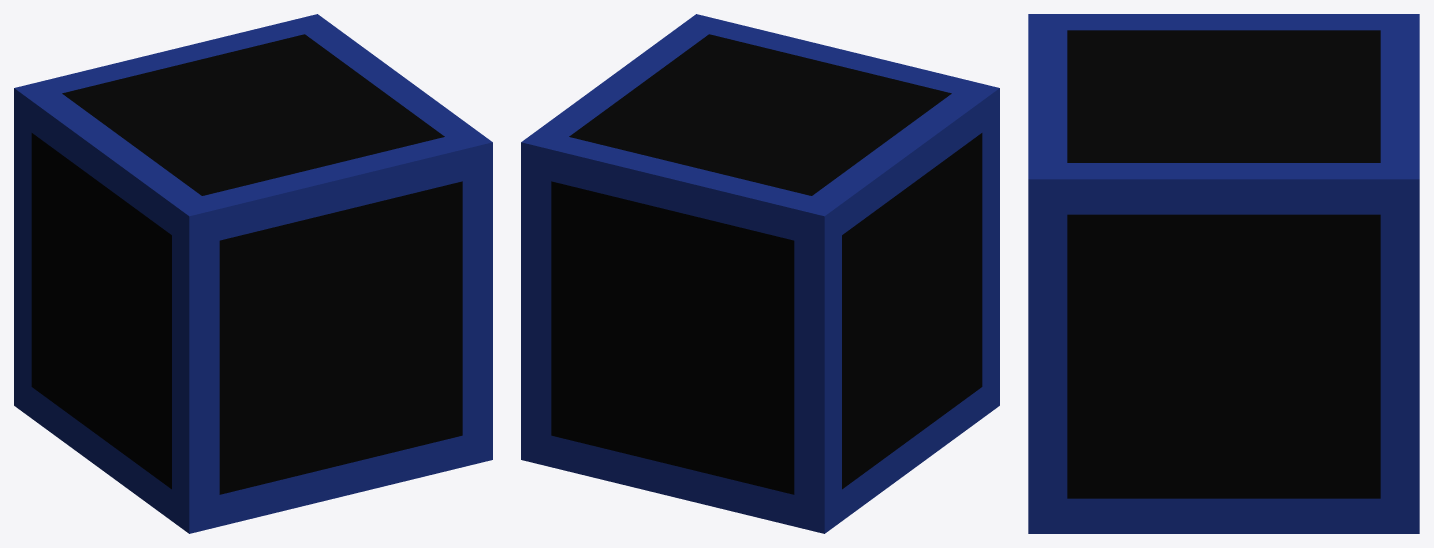
The model's file is Cube_blue.fbx.
3 views of the same model, side by side, from view 1: azimuth 30°, elevation 25°; view 2: azimuth 150°, elevation 25°; view 3: azimuth 270°, elevation 25° (orthographic). The views are drawn at different scales.
Visible parts, largest first — view 1: Cube; view 2: Cube; view 3: Cube.
Boxes of the visible parts, box(x1,y1,x2,y2) form: Cube: box(14, 14, 492, 533); Cube: box(521, 14, 999, 533); Cube: box(1028, 14, 1419, 533).
Bounding box in the file's own units: 200 × 200 × 200.
